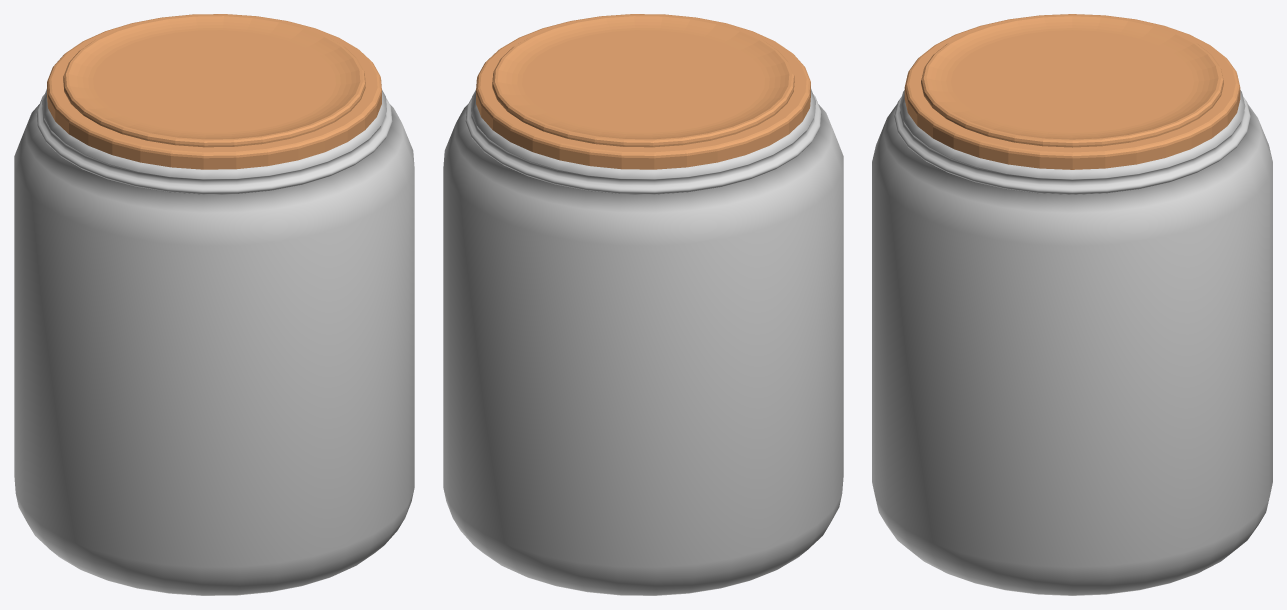
3 views of the same model, side by side, from view 1: azimuth 30°, elevation 25°; view 2: azimuth 150°, elevation 25°; view 3: azimuth 270°, elevation 25° (orthographic).
Visible parts, largest first — view 1: jar-base, jar-cap; view 2: jar-base, jar-cap; view 3: jar-base, jar-cap.
Part boxes in pixels (left/top/right/bottom): jar-base: left=14, top=89, right=414, bottom=595; jar-cap: left=47, top=14, right=381, bottom=169; jar-base: left=443, top=89, right=843, bottom=595; jar-cap: left=476, top=14, right=810, bottom=169; jar-base: left=872, top=90, right=1272, bottom=595; jar-cap: left=904, top=14, right=1240, bottom=169.
Size of the model in its own units: 0.1455 by 0.178 by 0.1455.
